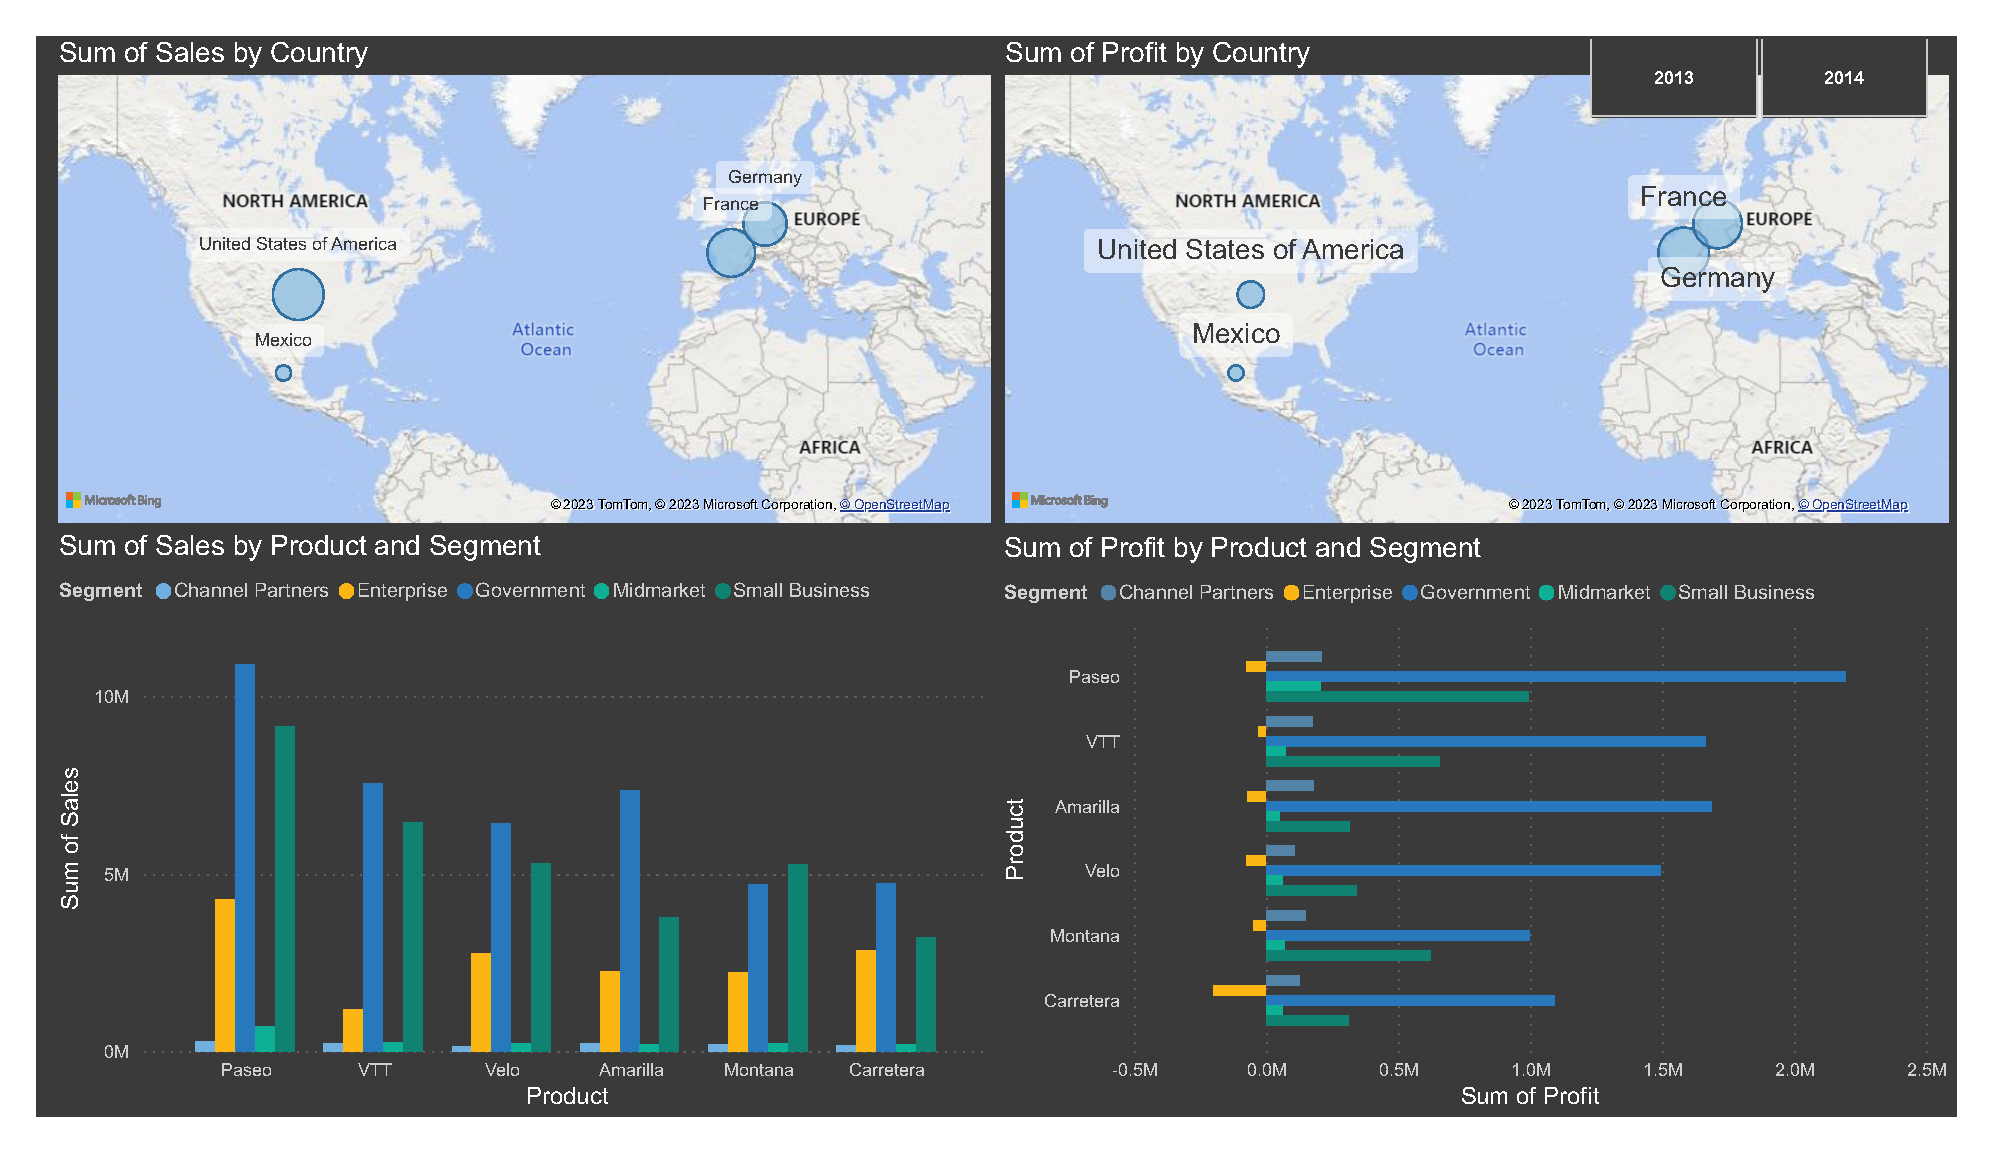

The dashboard page shown, as its layout file describes it:
{"tool":"powerbi","page":{"name":"Page 2","canvas":[1280,720],"ordinal":1},"visuals":[{"type":"map","fields":{"Category":["financials.Country"],"Size":["Sum(financials. Sales)"]},"box":[9.5,0,631,329],"z":0},{"type":"clusteredColumnChart","fields":{"Y":["Sum(financials. Sales)"],"Category":["financials.Product"],"Series":["financials.Segment"]},"box":[9.5,329,631,391],"z":1000},{"type":"clusteredBarChart","fields":{"Category":["financials.Product"],"Series":["financials.Segment"],"Y":["Sum(financials.Profit)"]},"box":[640.3,329.5,638.8,390.5],"z":2000},{"type":"map","fields":{"Category":["financials.Country"],"Size":["Sum(financials.Profit)"]},"box":[641,0,639,329],"z":3000},{"type":"slicer","fields":{"Values":["Calendar.Date.Variation.Date Hierarchy.Year"]},"box":[1014.5,0,266.2,57.9],"z":6000}]}

Visuals, with their boxes in screenshot pixels (x1, y1, x2, y2), scaled from the page's 1280x720 canvas onto the 1992x1152 screenshot:
map - financials.Country x Sum(financials. Sales): x1=15, y1=0, x2=997, y2=526
clusteredColumnChart - Sum(financials. Sales) x financials.Product: x1=15, y1=526, x2=997, y2=1151
clusteredBarChart - financials.Product x financials.Segment: x1=996, y1=527, x2=1991, y2=1151
map - financials.Country x Sum(financials.Profit): x1=998, y1=0, x2=1991, y2=526
slicer - Calendar.Date.Variation.Date Hierarchy.Year: x1=1579, y1=0, x2=1991, y2=93
